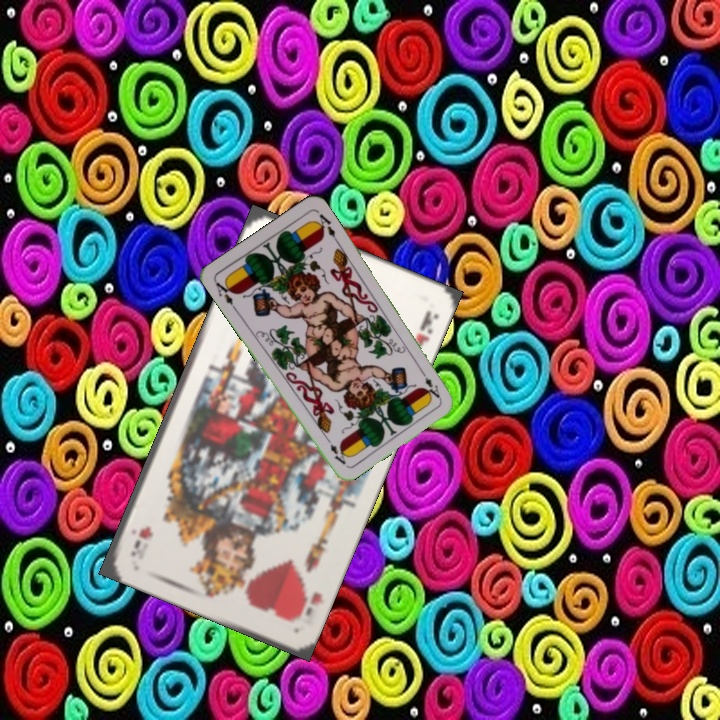EA: (211, 276, 239, 313), (416, 365, 443, 402)
HK: (288, 586, 326, 625)
